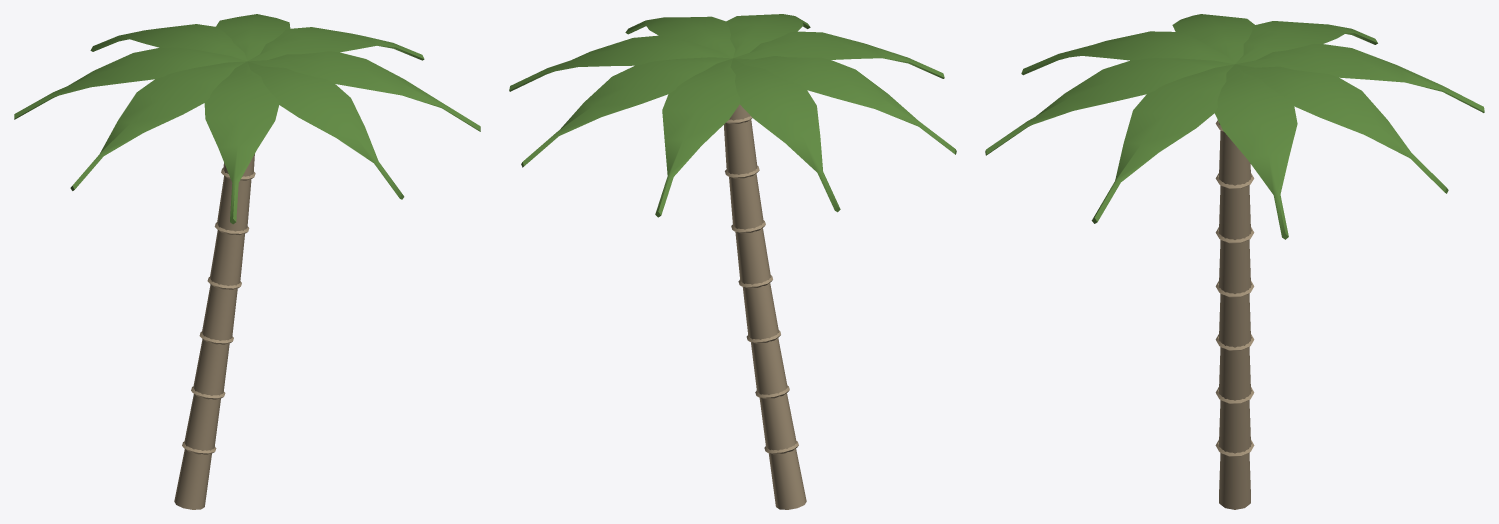
Rendered from tree_palm.glb.
3 renders of one model, left to right at view 1: azimuth 30°, elevation 25°; view 2: azimuth 150°, elevation 25°; view 3: azimuth 270°, elevation 25°, orthographic. The views are drawn at different scales.
Visible parts, largest first — view 1: body; view 2: body; view 3: body.
Part boxes in pixels (bbox=[...]): body: bbox=[14, 14, 480, 509]; body: bbox=[509, 14, 956, 509]; body: bbox=[985, 14, 1484, 509].
Size of the model in its own units: 7.08 by 7.39 by 7.08.
